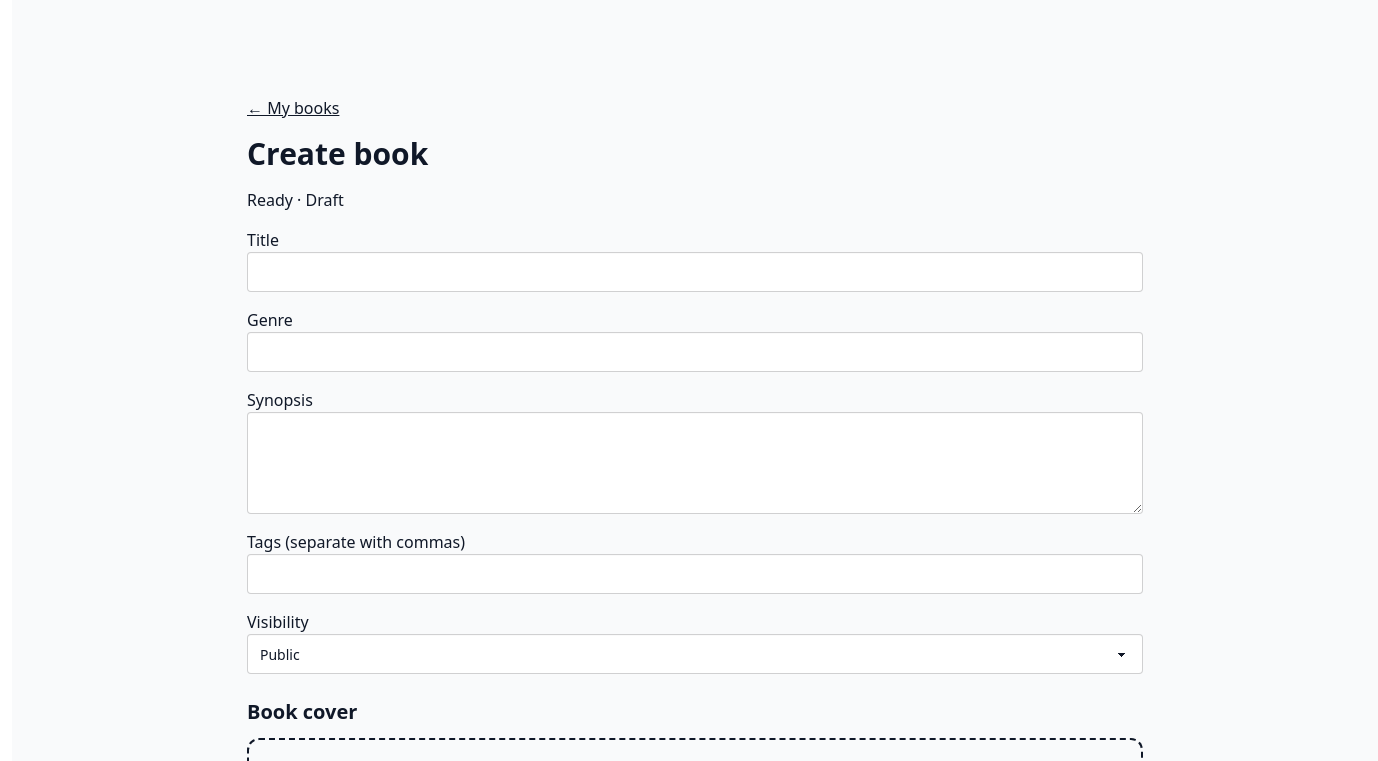
it: publication editor lifecycle › resolves an ambiguous creation before saving later edits to the same book
Type "First title" into the field labelled "Title" at [695, 272], box top-left (247, 252), bottom-right (1143, 292)
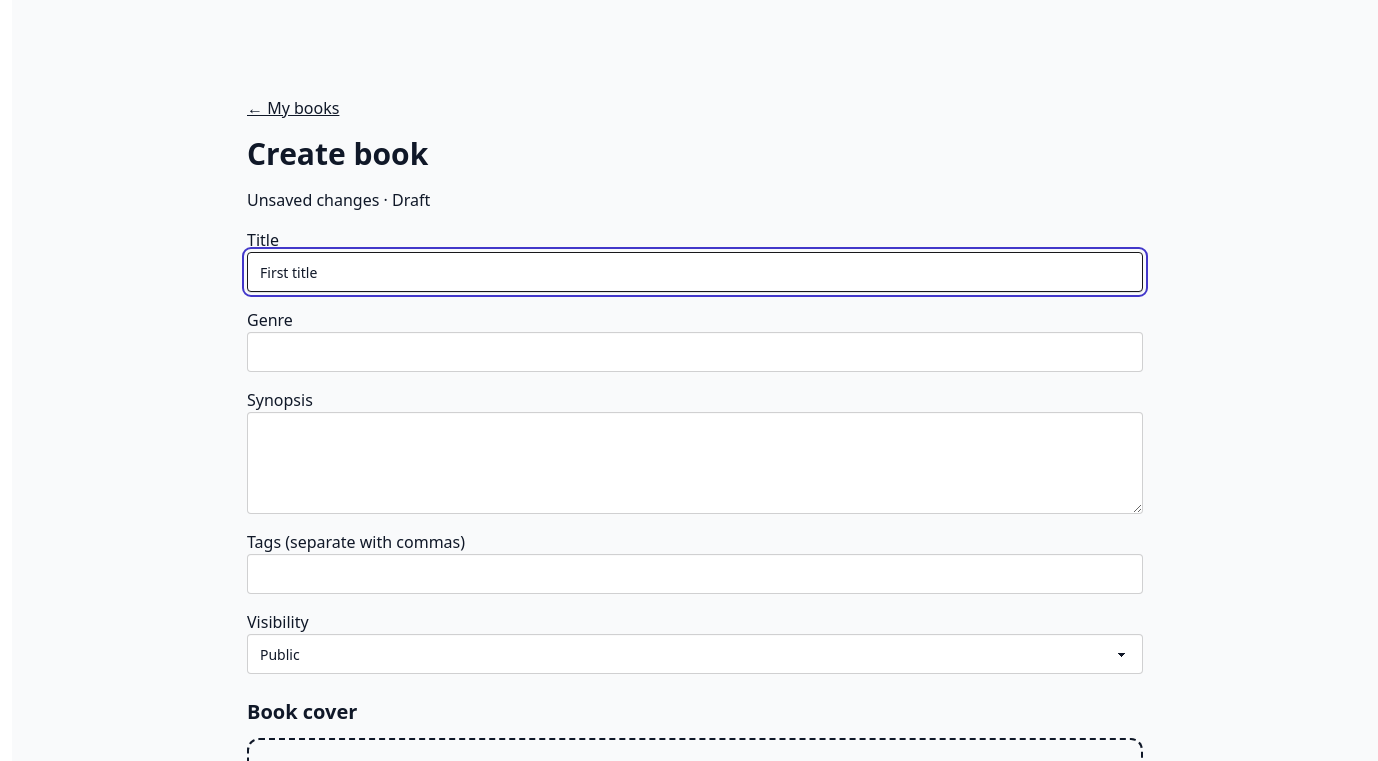
Type "Novel" into the field labelled "Genre" at [695, 352], box top-left (247, 332), bottom-right (1143, 372)
(page scrolled)
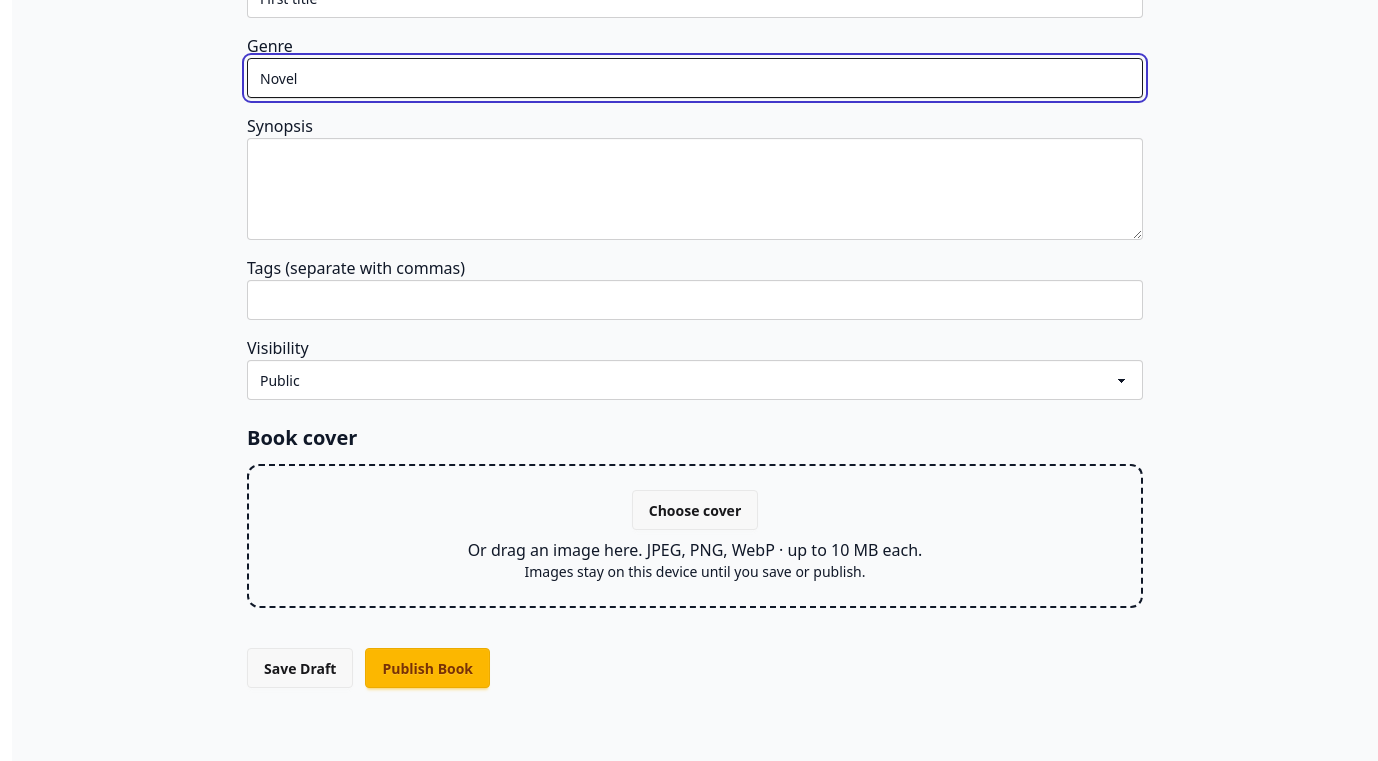
Click the button "Save Draft" at [300, 668], box top-left (247, 648), bottom-right (353, 688)
(page scrolled)
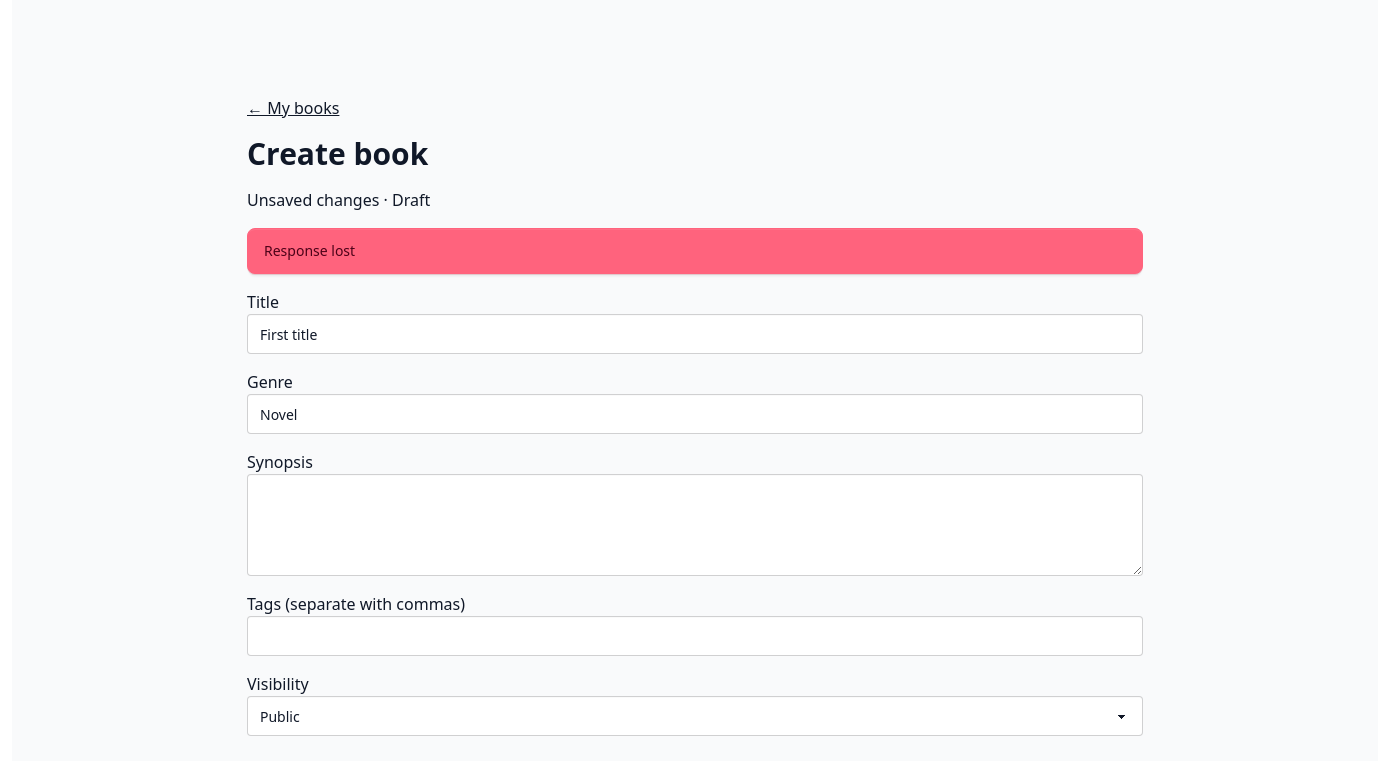
Now the text "Response lost" is shown, box top-left (247, 228), bottom-right (1143, 274)
Clear the field labelled "Title" at [695, 334], box top-left (247, 314), bottom-right (1143, 354)
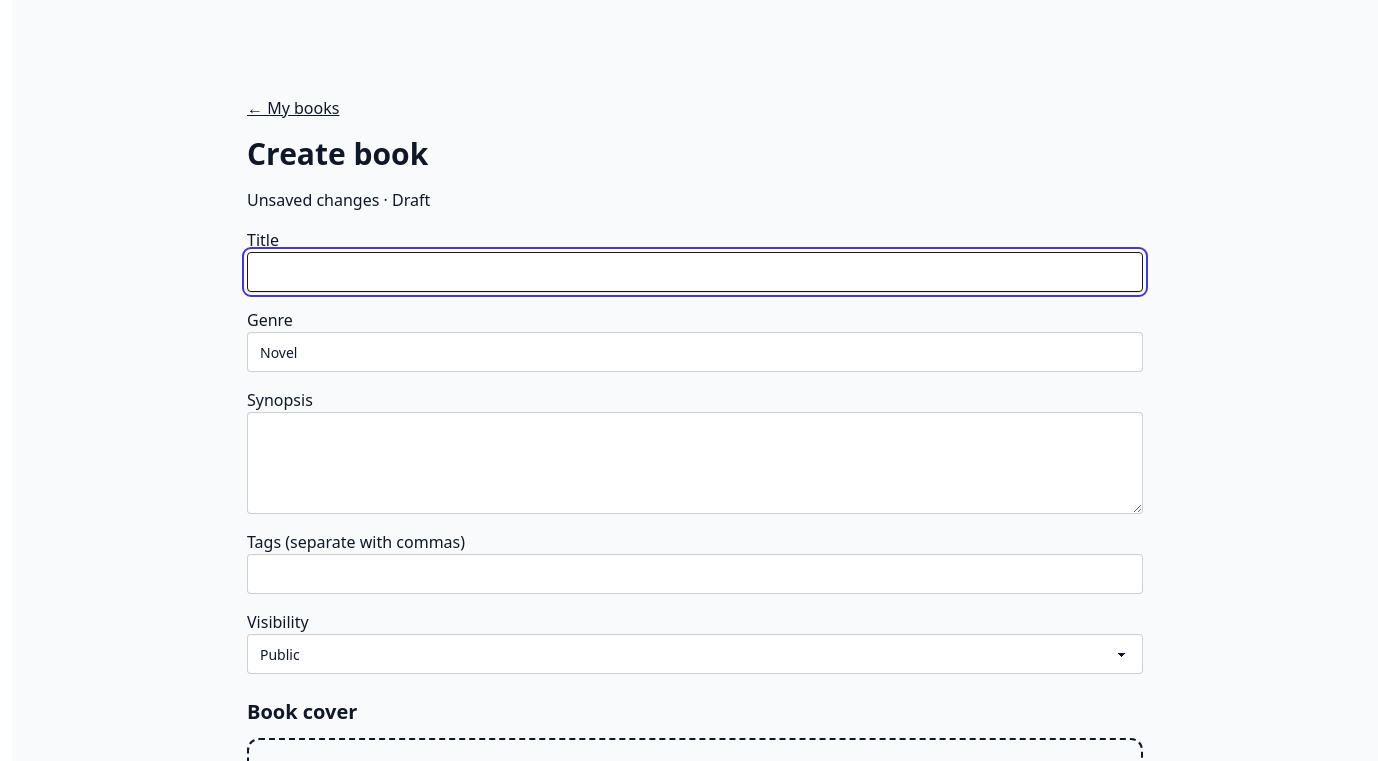
Type "Later edits" into the field labelled "Title" at [695, 272], box top-left (247, 252), bottom-right (1143, 292)
(page scrolled)
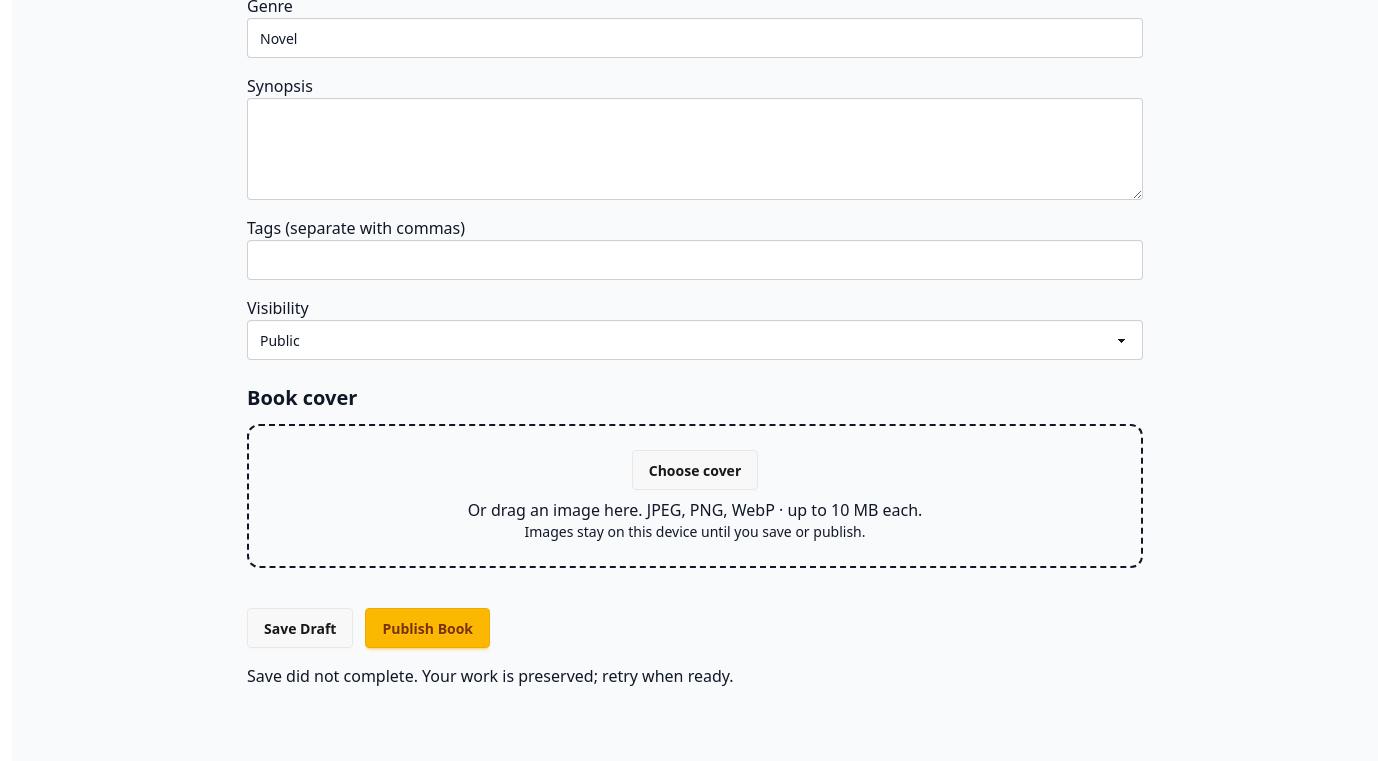
Click the button "Save Draft" at [300, 628], box top-left (247, 608), bottom-right (353, 648)
(page scrolled)
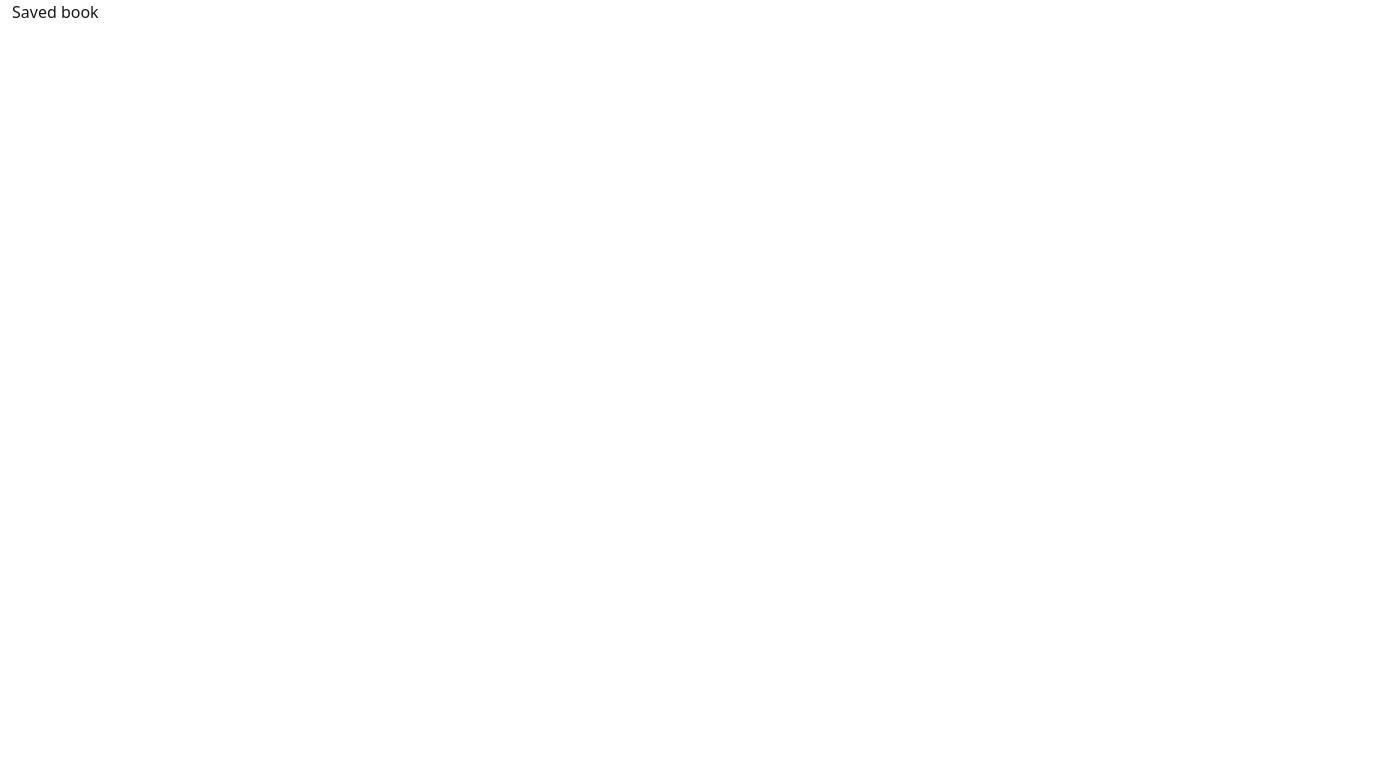
Now the text "Saved book" is shown, box top-left (12, 1), bottom-right (99, 23)
